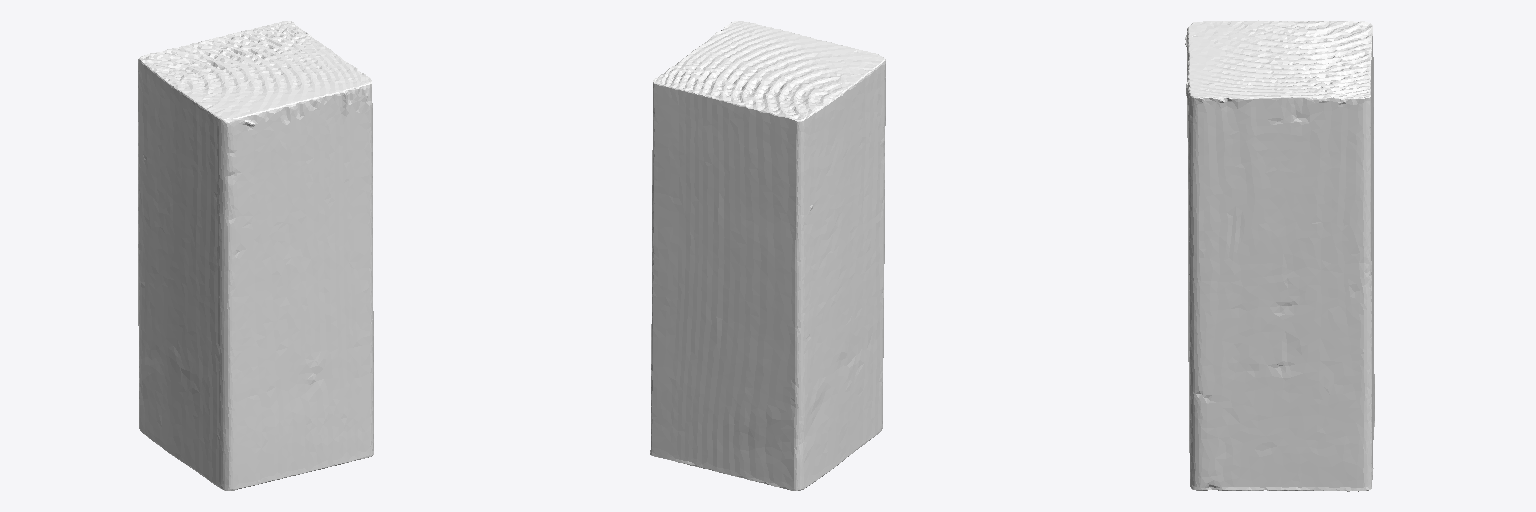
URDF robot description (gelatin_box):
<robot name="gelatin_box">
	<link name="base_link">
		<visual>
			<origin xyz="0.02267551794293906 0.007860203252540228 -0.013877966045089096" rpy="0.0 0.0 0.0" />
			<geometry>
				<mesh filename="009_gelatin_box/google_16k/textured.obj" scale="1 1 1" />
			</geometry>
			<material name="texture">
				<color rgba="1.0 1.0 1.0 1.0" />
			</material>
		</visual>
		<collision>
			<origin xyz="0.02267551794293906 0.007860203252540228 -0.013877966045089096" rpy="0.0 0.0 0.0" />
			<geometry>
				<mesh filename="009_gelatin_box/google_16k/textured_vhacd.obj" scale="1 1 1" />
			</geometry>
		</collision>
		<inertial>
			<mass value="0.097" />
			<inertia ixx="1e-3" ixy="0.0" ixz="0.0" iyy="1e-3" iyz="0.0" izz="1e-3" />
		</inertial>
	</link>
</robot>

--- Render facts (derived) ---
The picture shows the robot from 3 angles, left to right: view 1: azimuth 30°, elevation 25°; view 2: azimuth 150°, elevation 25°; view 3: azimuth 270°, elevation 25°; orthographic projection.
Robot: gelatin_box — 1 links, 0 joints (none); root link base_link; default pose: every joint at zero.
Links seen in each view (by area): view 1: base_link; view 2: base_link; view 3: base_link.
Boxes of the visible links, box(x1,y1,x2,y2) form: base_link: box(138, 21, 373, 490); base_link: box(650, 21, 885, 490); base_link: box(1185, 20, 1374, 491).
Bounding box of the posed robot: 0.0906 × 0.0899 × 0.206 m (x, y, z).
Meshes: 1 distinct files referenced, 1 mesh visuals loaded (1 OBJ).